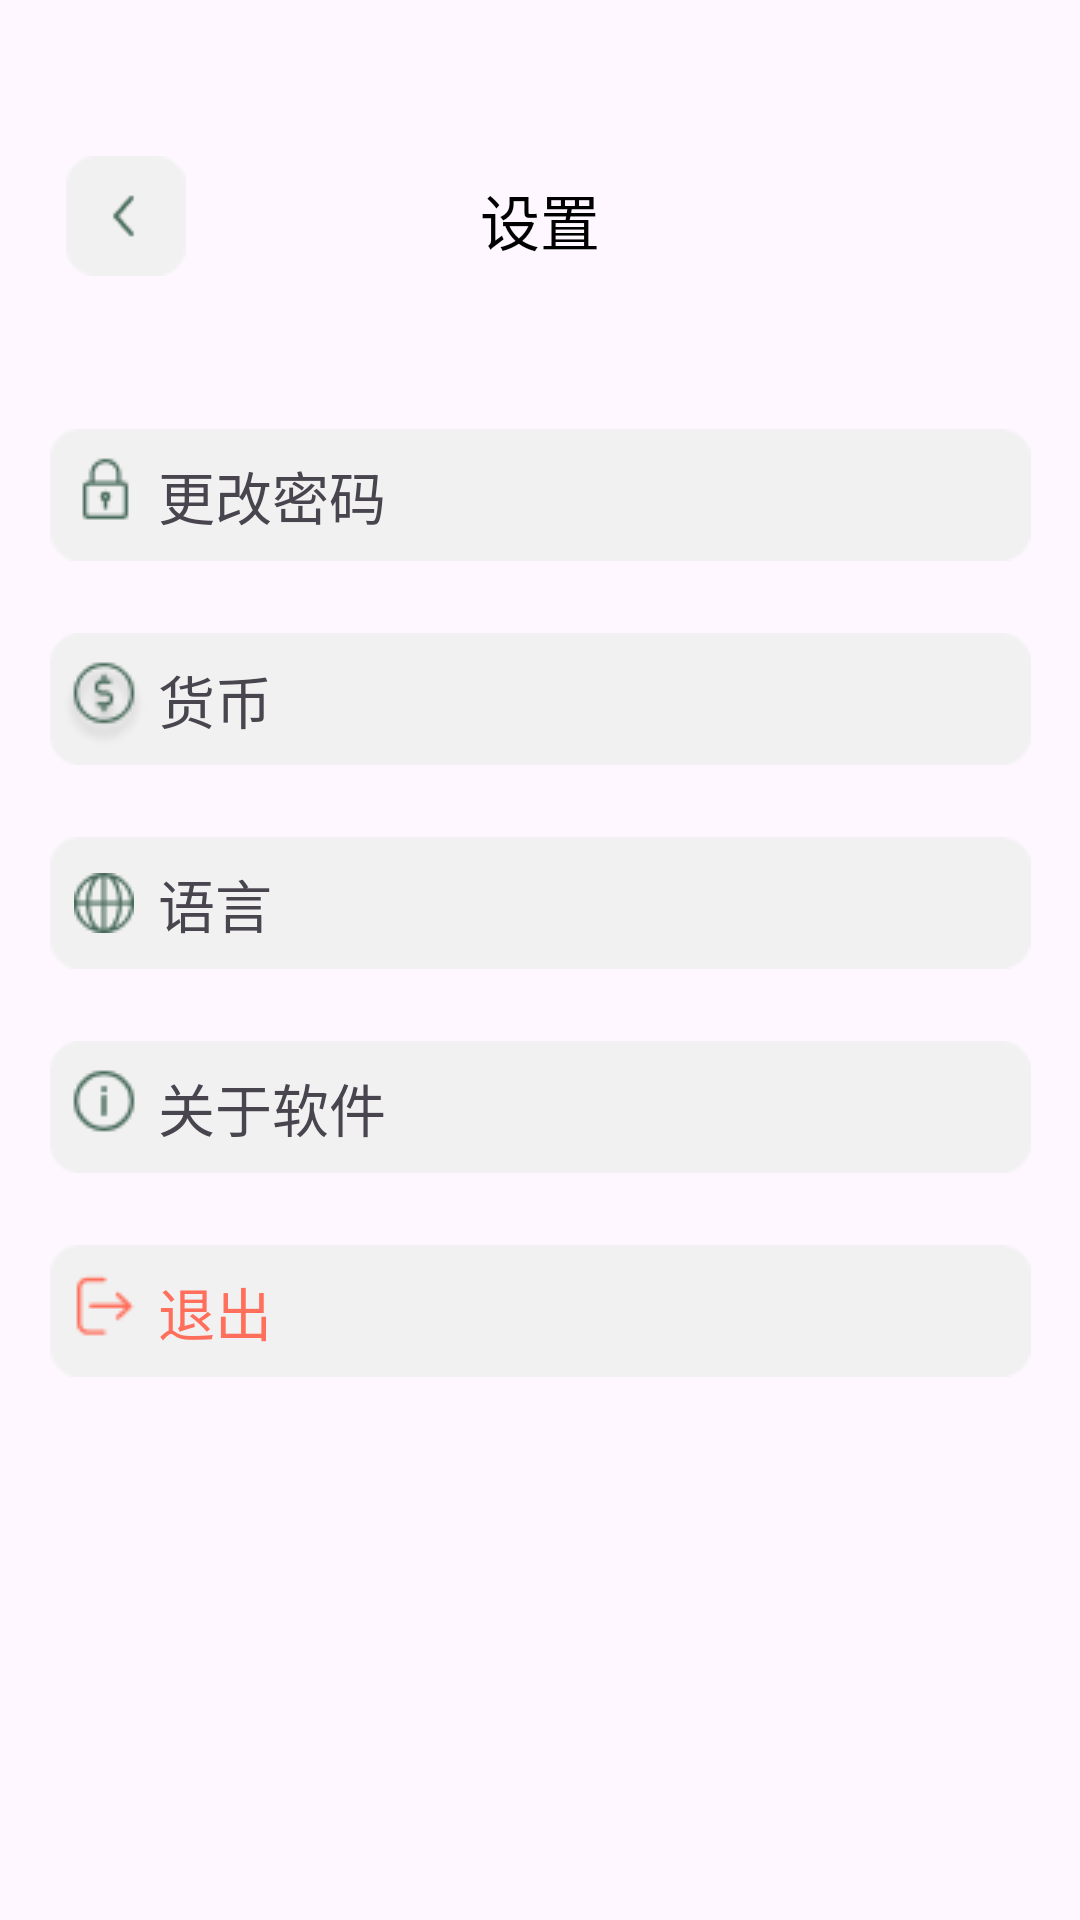

Icons on this 1080x1920 Android screen, each with its box as (x1, y1, x2, y2):
about: (73, 1070, 135, 1132)
back: (113, 195, 134, 237)
coin: (70, 662, 138, 740)
global: (74, 873, 134, 933)
padlock: (82, 458, 129, 520)
